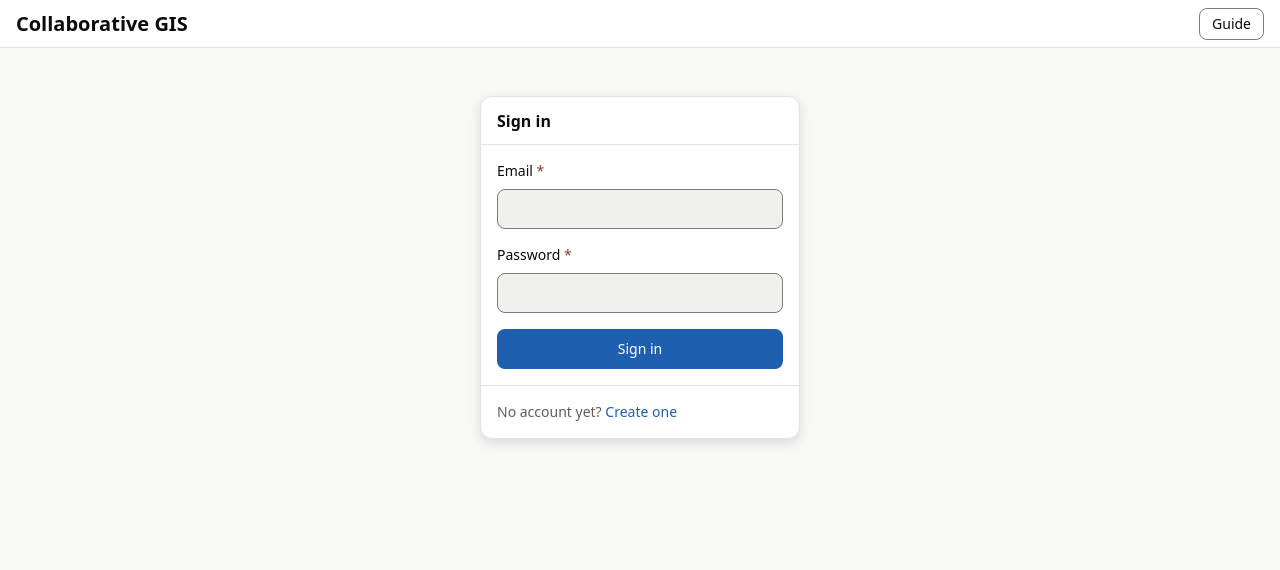
Test: /login › links to /register
Click the link "Create one" at (641, 412), box [605,402,677,421]
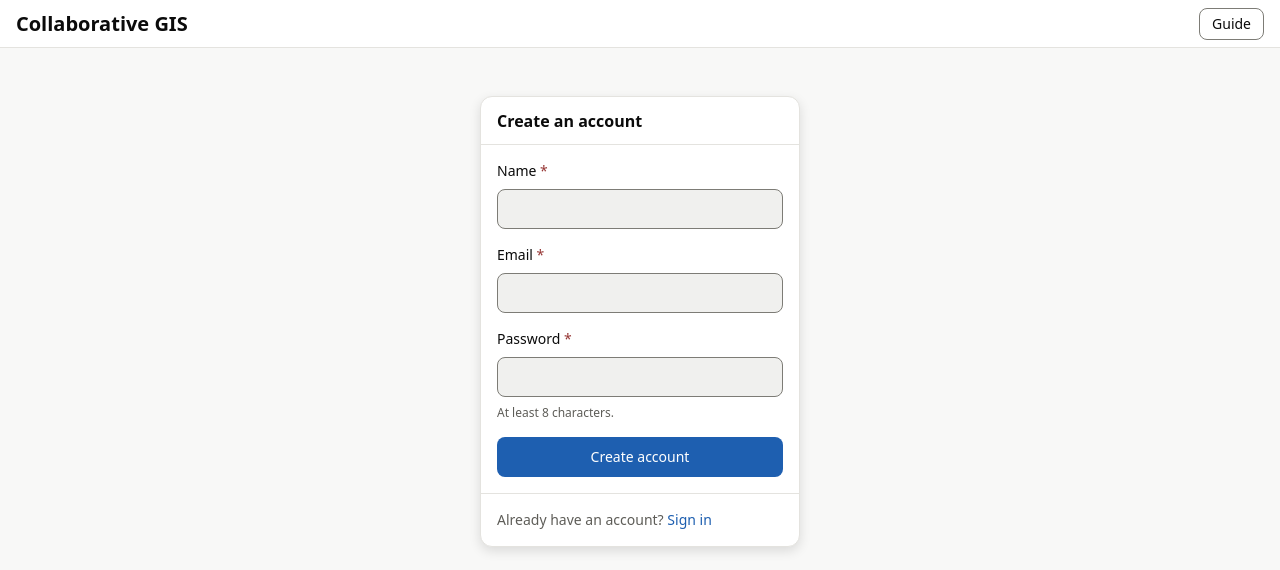
Now the heading "Create an account" is shown, box [497,108,642,132]
